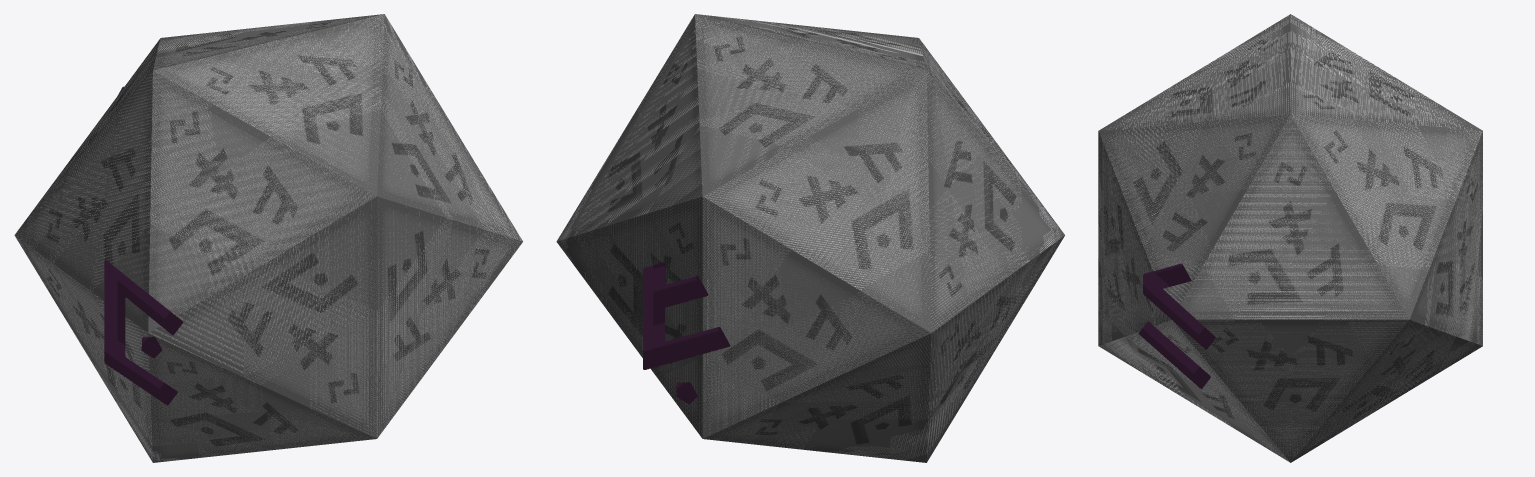
The model's file is TileInfusionMatrixExtended.obj.
3 views of the same model, side by side, from view 1: azimuth 30°, elevation 25°; view 2: azimuth 150°, elevation 25°; view 3: azimuth 270°, elevation 25° (orthographic). The views are drawn at different scales.
Parts seen in each view (by area): view 1: _2, _1; view 2: _2, _1; view 3: _2, _1.
Part boxes in pixels (x1,y1,x2,y2): _2: (14,14,522,462); _1: (104,86,182,405); _2: (556,14,1064,462); _1: (643,262,730,404); _2: (1098,14,1482,462); _1: (1138,263,1215,389).
Size of the model in its own units: 1.2 by 0.9708 by 1.07.
